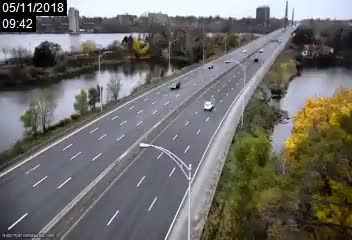personal_car: (169, 79, 180, 90), (204, 101, 214, 111), (207, 64, 213, 70), (224, 58, 230, 64)
